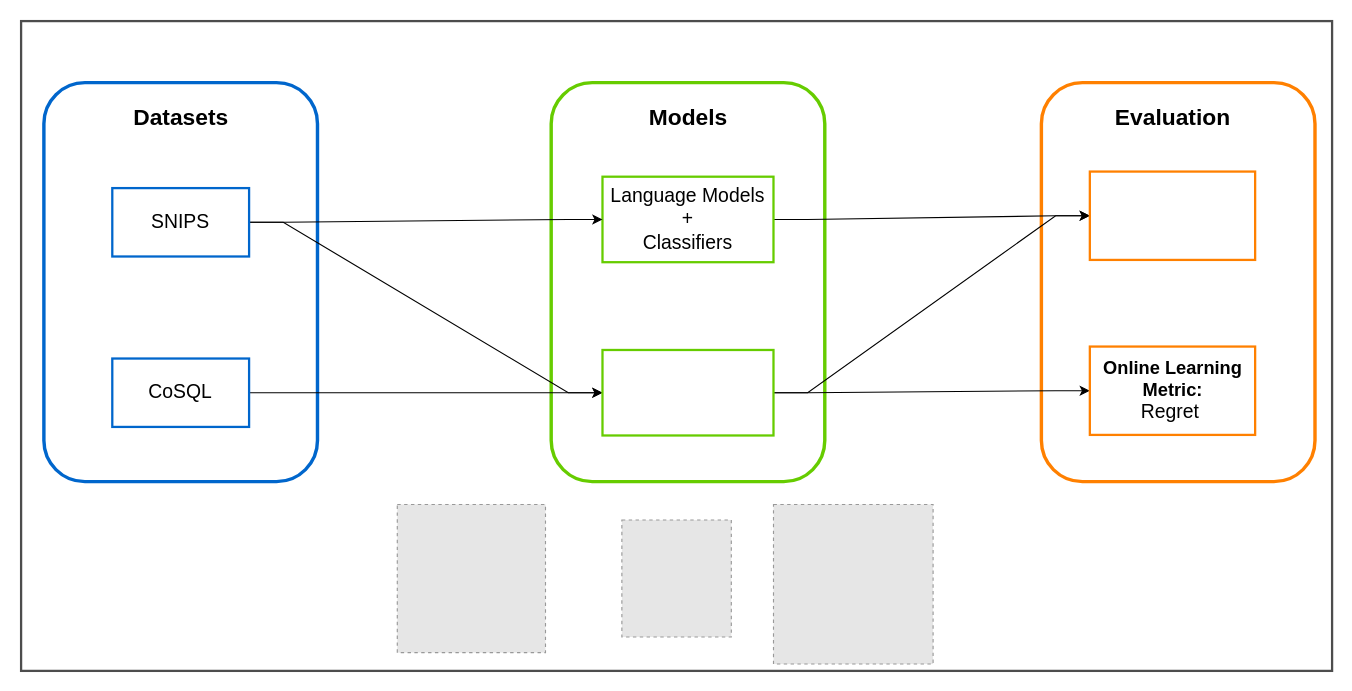
The diagram is 1352 pixels wide and 691 high, and some of its shapes have lost their labels. Grey dashed boxes stand in for pictures. Here are the shapes that lost their labels. From the top down, the box of each, then its label:
(1088, 170, 1256, 260): Classifier Metrics: F1 Score, Accuracy
(601, 348, 774, 436): Language Models + Bandits
